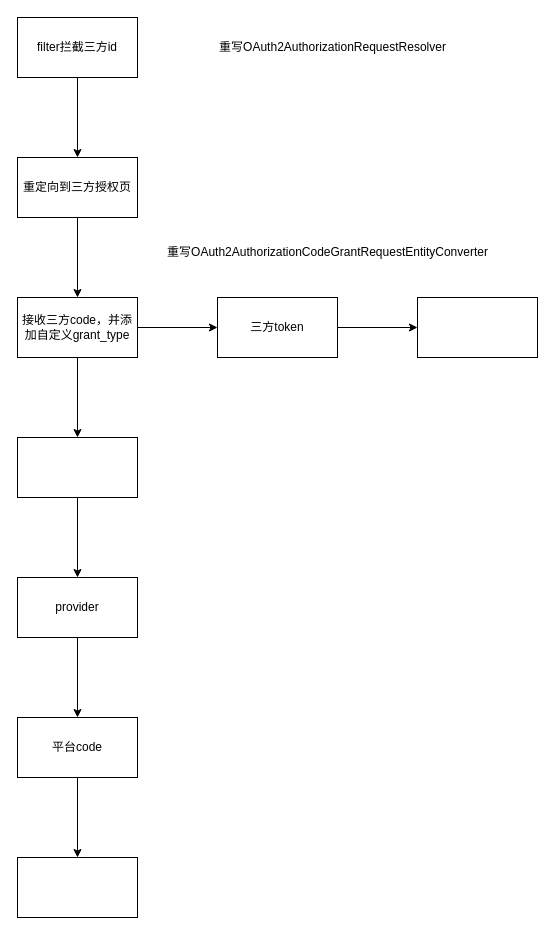
This 555x935 diagram has some shape labels left out. The shapes that lost their labels are listed below. From the top down, each one's box as (x1, y1, x2, y2) in pixels, then its label:
(416, 296, 538, 358): 三方userinfo
(16, 436, 138, 498): convert
(16, 856, 138, 918): 平台token
